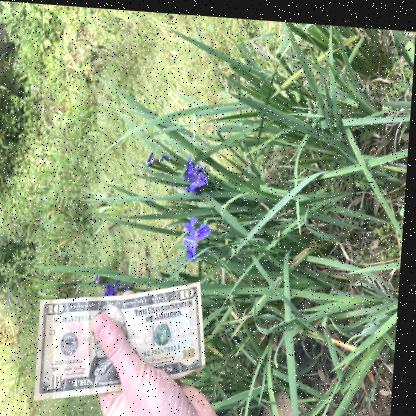ten-front: (40, 277, 211, 400)
